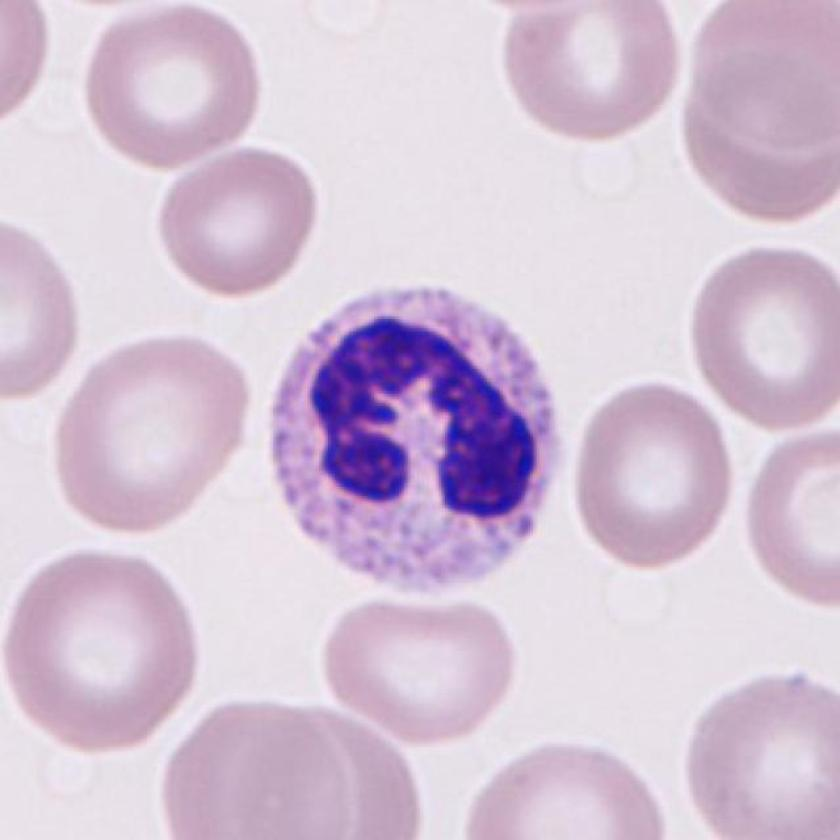neutrophil: (268, 287, 566, 593)
